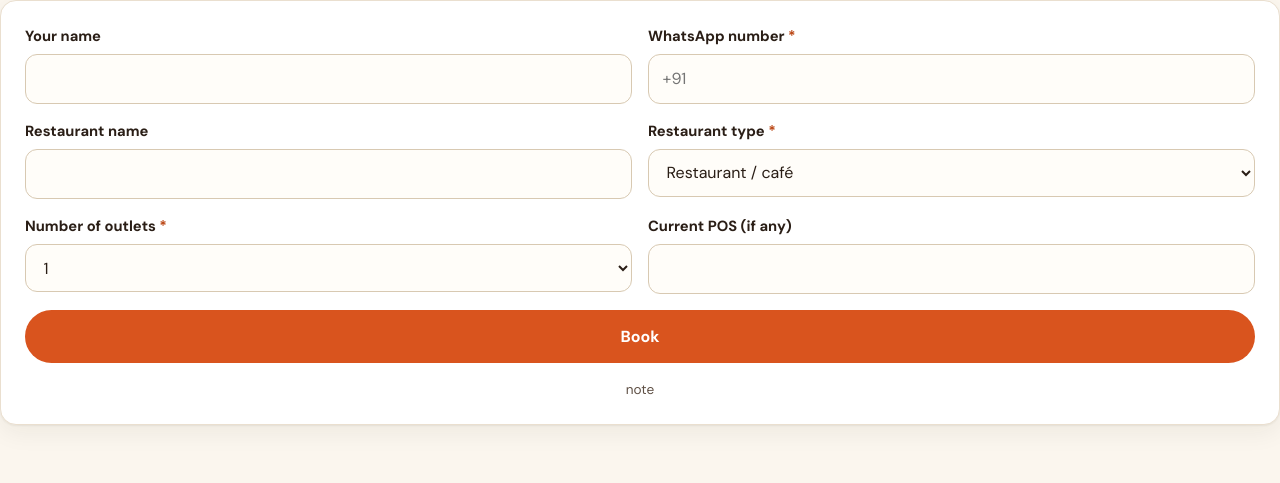
Test: <LeadForm variant="demo"> › shows a server error without losing the form
Step 1. Type "9876543210" into the field labelled "WhatsApp number *" → point(952, 79), box 648,54 -> 1255,104
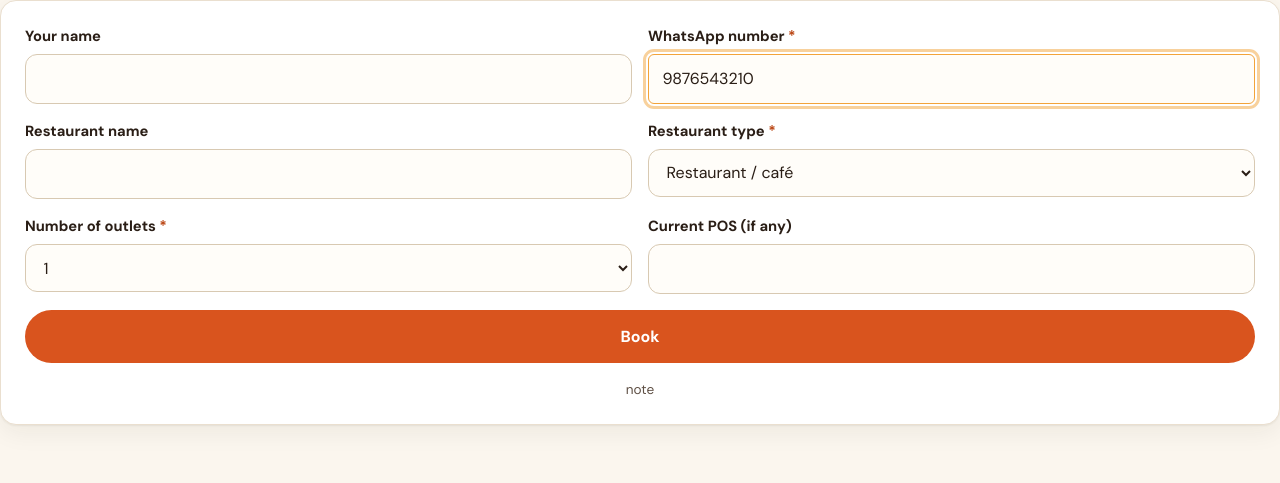
Step 2. Click the button "Book" → point(640, 336), box 25,310 -> 1255,362
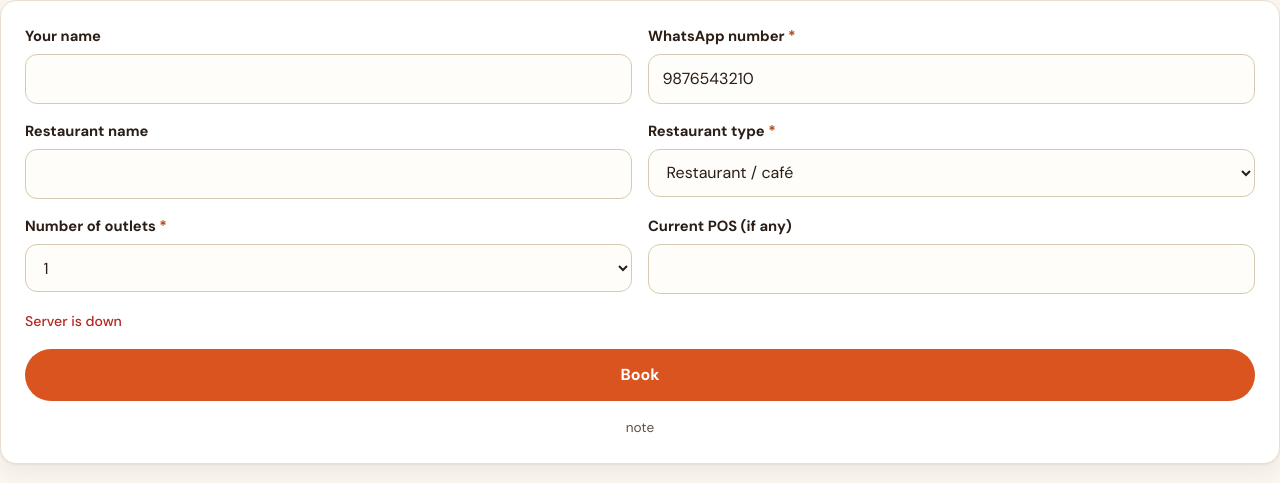
Now the text "Server is down" is shown, box 25,312 -> 122,330
